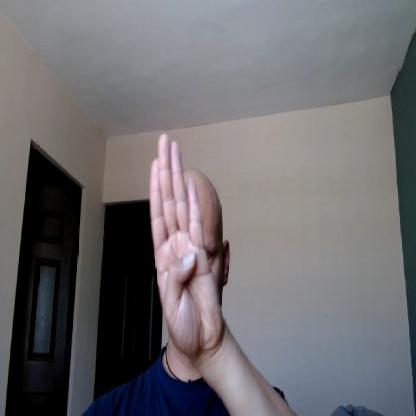B: (150, 132, 223, 356)
